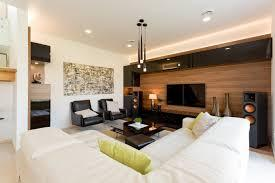TV: (164, 82, 208, 108)
chair: (67, 98, 101, 128), (99, 96, 122, 121)
console: (145, 111, 201, 127)
light: (133, 17, 149, 75), (147, 93, 159, 113), (199, 11, 214, 24), (80, 24, 95, 35), (124, 41, 135, 53), (31, 60, 39, 65)
sofa: (18, 111, 251, 183)
table: (110, 116, 157, 136), (121, 133, 158, 150)
